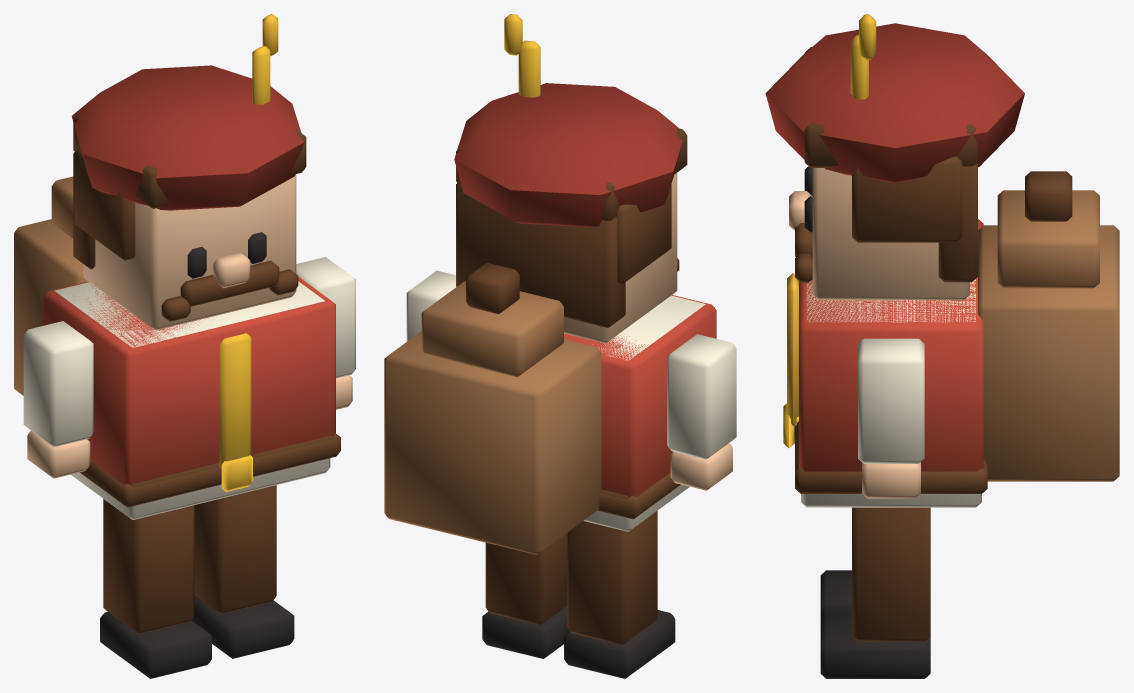
File: H_MedMerchant.fbx
3 renders of one model, left to right at view 1: azimuth 30°, elevation 25°; view 2: azimuth 150°, elevation 25°; view 3: azimuth 270°, elevation 25°, orthographic. The views are drawn at different scales.
Visible parts, largest first — view 1: M_Merchant; view 2: M_Merchant; view 3: M_Merchant.
Part boxes in pixels (left/top/right/bottom): M_Merchant: left=14, top=14, right=355, bottom=678; M_Merchant: left=384, top=14, right=736, bottom=678; M_Merchant: left=765, top=14, right=1119, bottom=678.
Bounding box in the file's own units: 0.97 × 1.86 × 0.9.
Materials: 1 (1 with a texture image).
